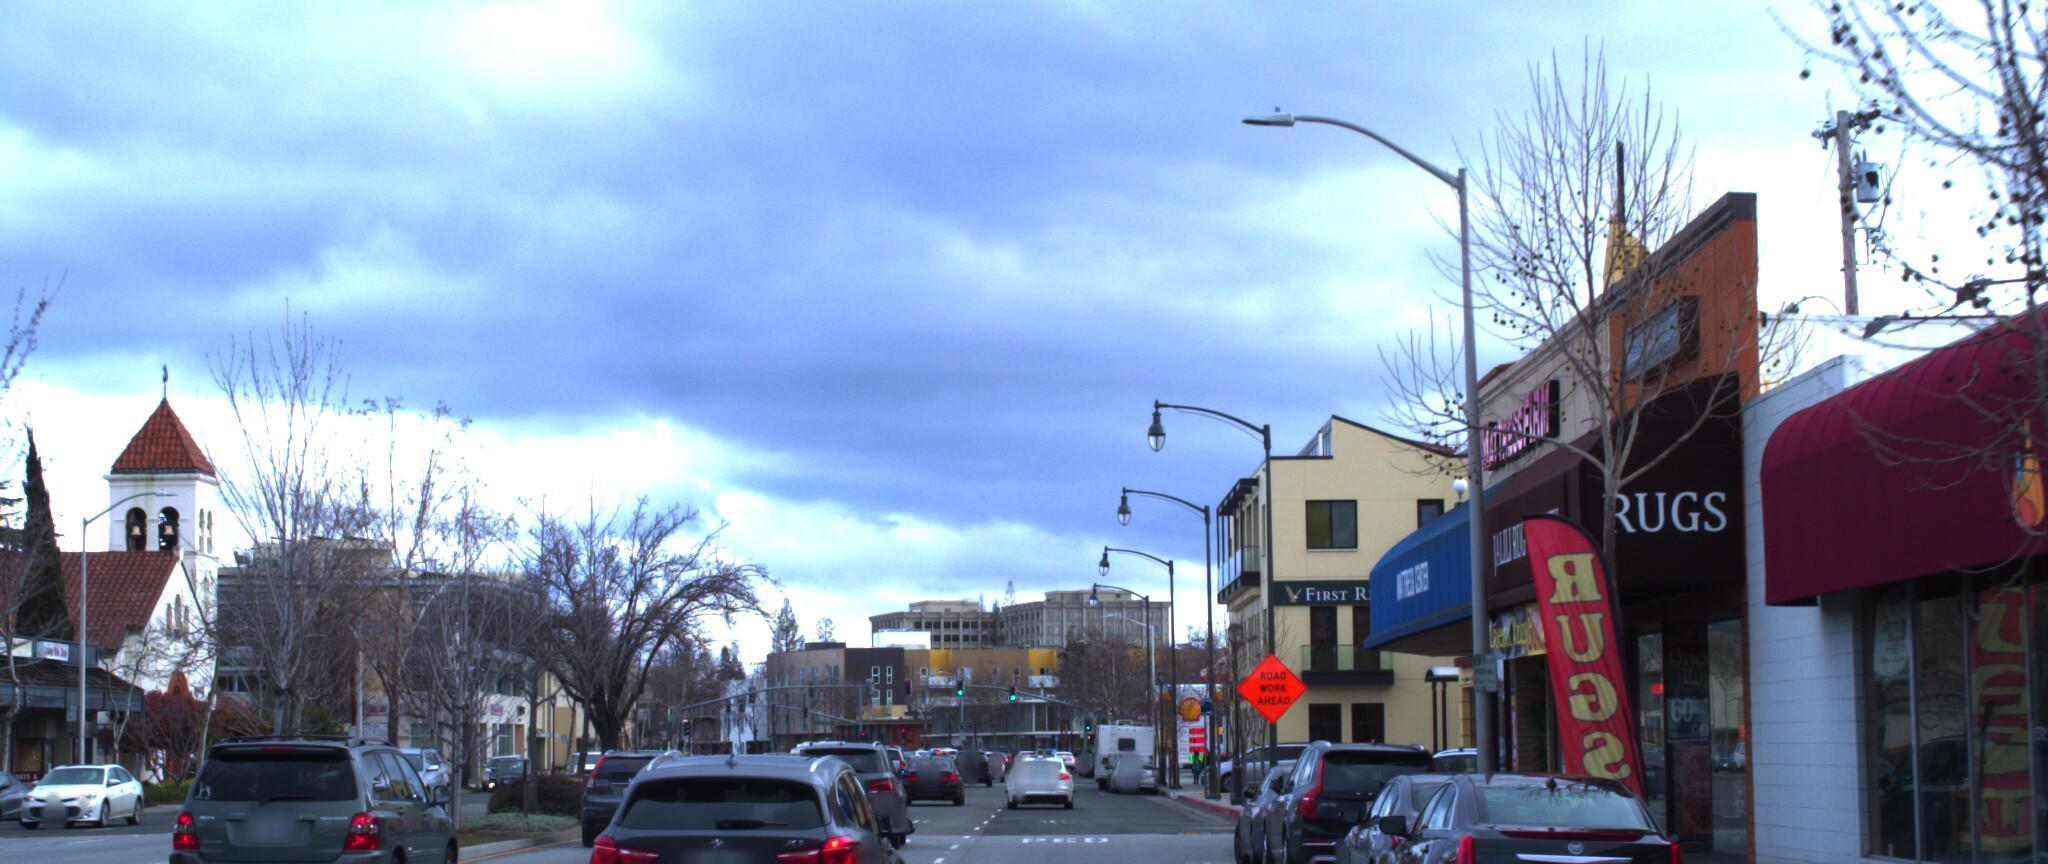car: (581, 717, 927, 864), (1353, 737, 1719, 864), (157, 728, 466, 864), (1314, 747, 1586, 864), (1249, 722, 1456, 864), (1220, 737, 1396, 864), (589, 741, 722, 854), (782, 726, 905, 838), (29, 748, 166, 818), (1014, 744, 1080, 799)
